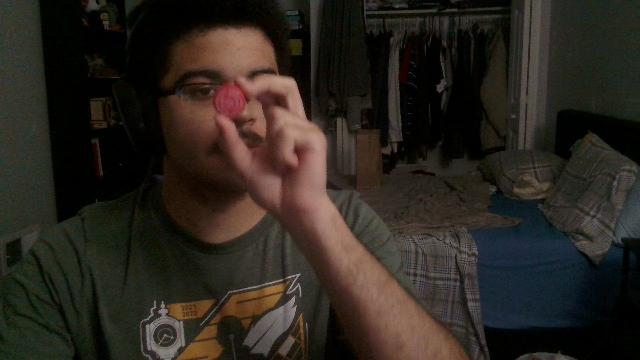cap: (214, 84, 246, 118)
